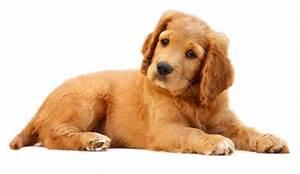dog: (9, 9, 289, 155)
